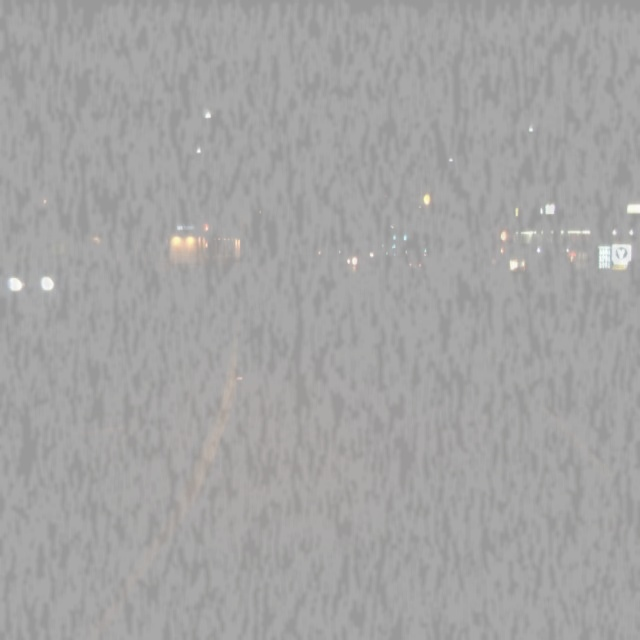warning: (500, 230, 508, 240), (424, 195, 430, 204)
warning traffic light: (498, 223, 510, 247), (422, 187, 430, 210)
